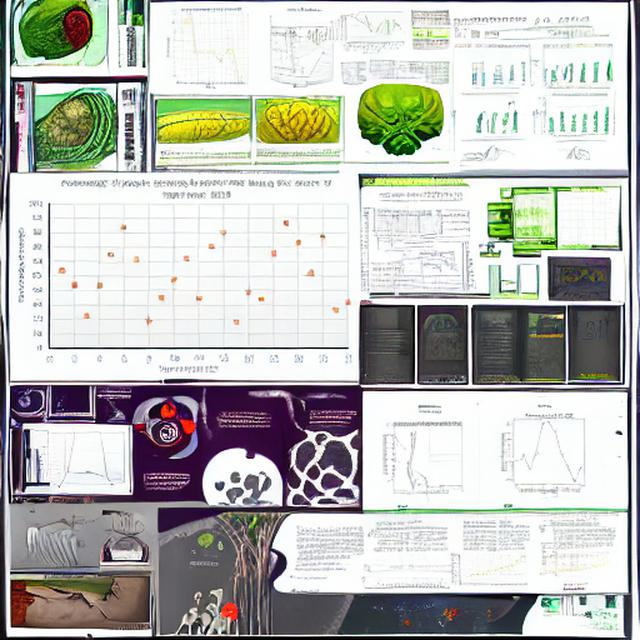Graph: (14, 175, 358, 377), (151, 2, 269, 91), (491, 409, 604, 494), (451, 544, 532, 592), (535, 93, 614, 139), (338, 10, 405, 56), (549, 260, 611, 301), (360, 351, 415, 385)
